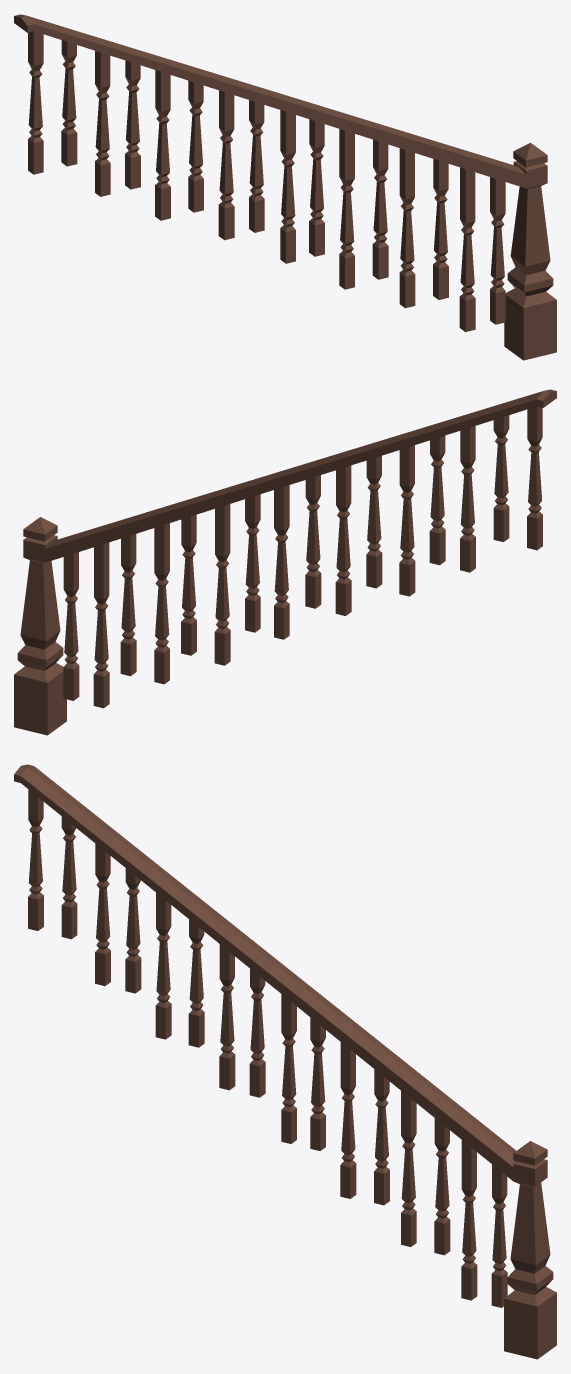
The model's file is StairRailing.fbx.
The picture shows the model from 3 angles, top to bottom: view 1: azimuth 30°, elevation 25°; view 2: azimuth 150°, elevation 25°; view 3: azimuth 330°, elevation 25°; orthographic projection.
Parts seen in each view (by area): view 1: polySurface4; view 2: polySurface4; view 3: polySurface4.
Part boxes in pixels (x1,y1,x2,y2): polySurface4: (14,14,556,360); polySurface4: (14,389,556,735); polySurface4: (14,764,556,1359).
Size of the model in its own units: 157 by 130 by 10.
